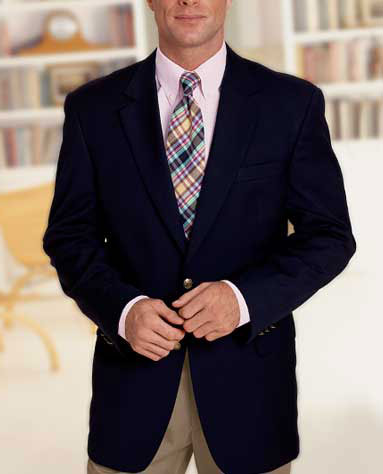F_M_suit jacket: (54, 59, 345, 454)
F_tie: (163, 73, 215, 236)
